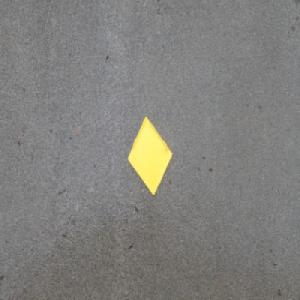PlasticPart: (127, 114, 173, 196)
